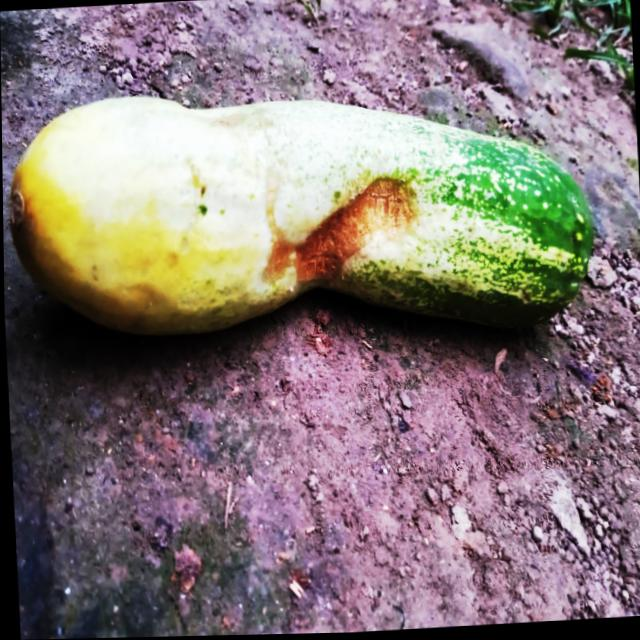Belly-Rot: (252, 153, 425, 296)
